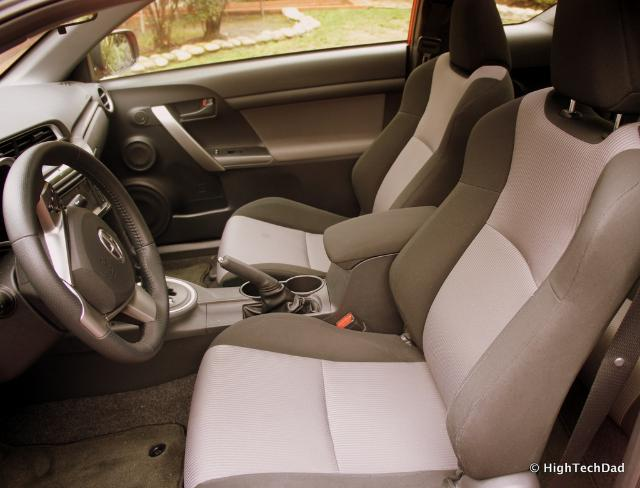Seatbelt: (551, 294, 639, 488), (417, 2, 443, 60)
